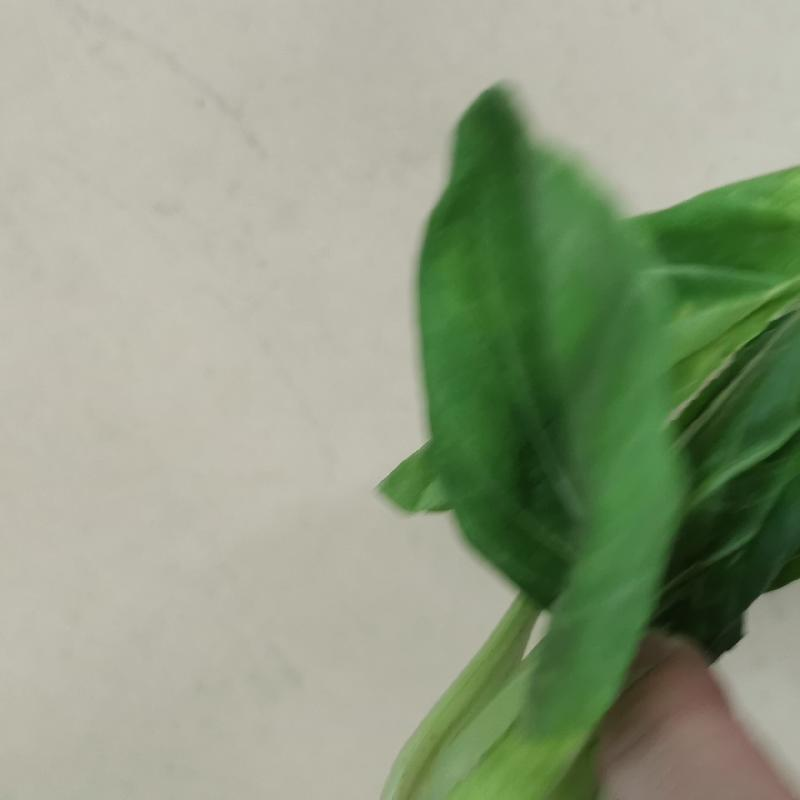green vegatable: (382, 55, 800, 799)
